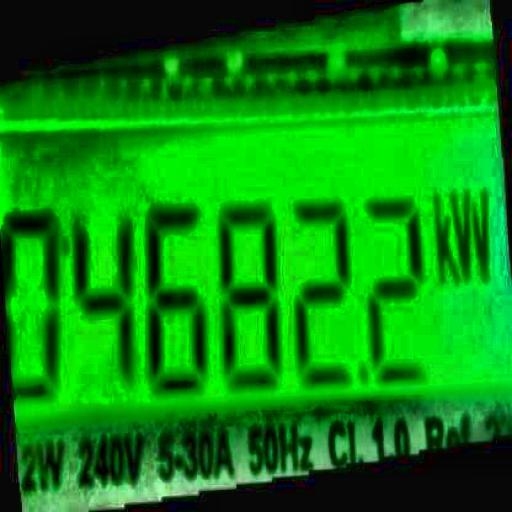DISPLAY_REGION: (3, 118, 512, 395)
SERIAL_REGION: (4, 187, 491, 402)
